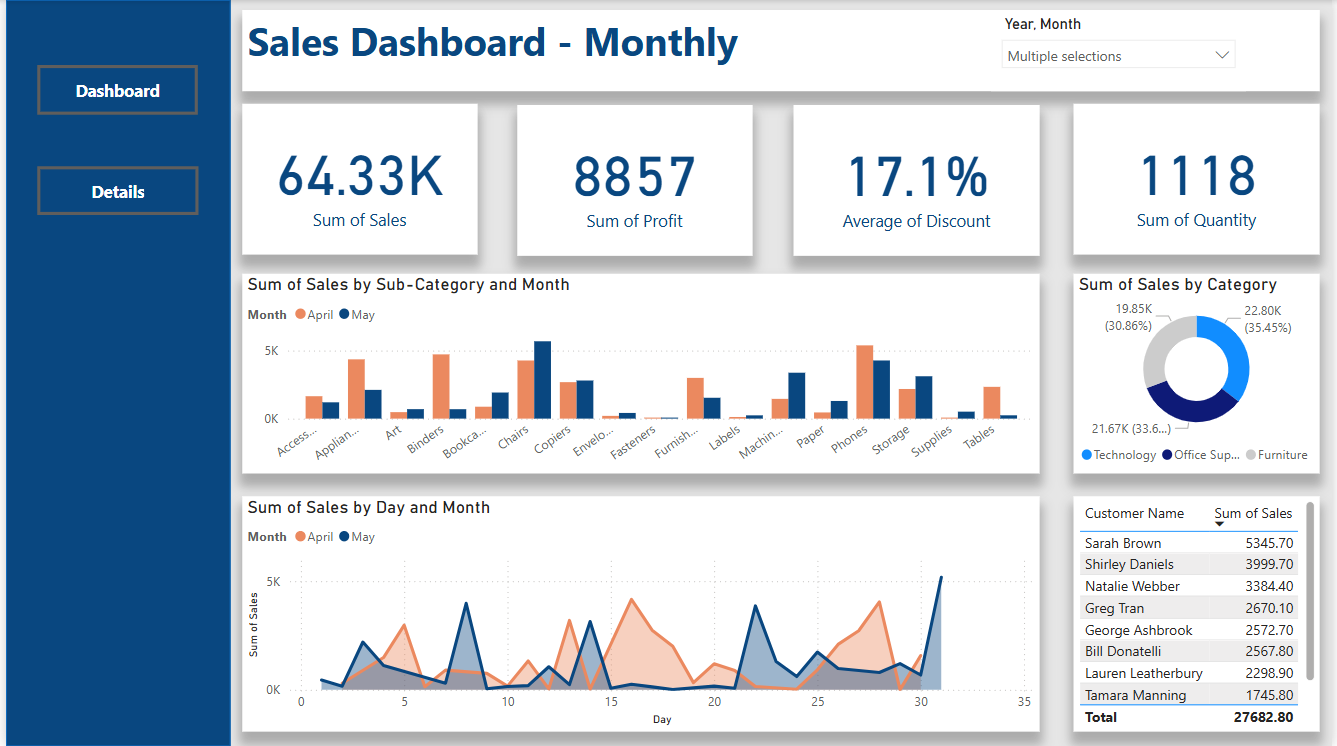

What the dashboard file says about the page in this screenshot:
{"tool":"powerbi","page":{"name":"Page 1","canvas":[1280,720],"ordinal":0},"visuals":[{"type":"shape","box":[0,0,216.8,720.4],"z":0},{"type":"card","fields":{"Values":["Sheet1.Sales"]},"box":[228,100.1,226.8,146],"z":0,"group":"g1"},{"type":"card","fields":{"Values":["Sheet1.Profit"]},"box":[493.4,101.3,226.8,146],"z":1000,"group":"g1"},{"type":"actionButton","box":[30.2,63.1,155.1,48],"z":1000},{"type":"card","fields":{"Values":["Sheet1.Discount"]},"box":[760,101.3,237.7,146],"z":2000,"group":"g1"},{"type":"textbox","box":[227.8,9.6,1040.1,78.2],"z":2000},{"type":"card","fields":{"Values":["Sheet1.Quantity"]},"box":[1030.3,100.1,237.7,146],"z":3000,"group":"g1"},{"type":"slicer","fields":{"Values":["Sheet1.Order Date.Variation.Date Hierarchy.Year","Sheet1.Order Date.Variation.Date Hierarchy.Month"]},"box":[950.9,9.6,245.6,78.2],"z":3000},{"type":"actionButton","box":[30.2,160.5,155.6,47.1],"z":4000},{"type":"clusteredColumnChart","fields":{"Category":["Sheet1.Sub-Category"],"Y":["Sheet1.Sales"],"Series":["Sheet1.Order Date.Variation.Date Hierarchy.Month"]},"box":[228,264.2,769.7,193],"z":4000,"group":"g1"},{"type":"group","id":"g1","title":"Group 1","box":[228,100.1,1040,605.6],"z":5000},{"type":"areaChart","fields":{"Category":["Sheet1.Order Date.Variation.Date Hierarchy.Day"],"Y":["Sheet1.Sales"],"Series":["Sheet1.Order Date.Variation.Date Hierarchy.Month"]},"box":[228,478.9,769.7,226.8],"z":5000,"group":"g1"},{"type":"donutChart","fields":{"Category":["Sheet1.Category"],"Y":["Sheet1.Sales"]},"box":[1030.3,264.2,237.7,193],"z":6000,"group":"g1"},{"type":"tableEx","fields":{"Values":["Sheet1.Customer Name","Sheet1.Sales"]},"box":[1030.3,478.9,237.7,226.8],"z":7000,"group":"g1"}]}

Visuals, with their boxes in screenshot pixels (x1, y1, x2, y2), scaled from the page's 1280x720 canvas onto the 1337x746 screenshot:
shape: {"left": 0, "top": 0, "right": 226, "bottom": 745}
card - Sheet1.Sales: {"left": 238, "top": 104, "right": 475, "bottom": 255}
card - Sheet1.Profit: {"left": 515, "top": 105, "right": 752, "bottom": 256}
actionButton: {"left": 32, "top": 65, "right": 194, "bottom": 115}
card - Sheet1.Discount: {"left": 794, "top": 105, "right": 1042, "bottom": 256}
textbox: {"left": 238, "top": 10, "right": 1324, "bottom": 91}
card - Sheet1.Quantity: {"left": 1076, "top": 104, "right": 1324, "bottom": 255}
slicer - Sheet1.Order Date.Variation.Date Hierarchy.Year x Sheet1.Order Date.Variation.Date Hierarchy.Month: {"left": 993, "top": 10, "right": 1250, "bottom": 91}
actionButton: {"left": 32, "top": 166, "right": 194, "bottom": 215}
clusteredColumnChart - Sheet1.Sub-Category x Sheet1.Sales: {"left": 238, "top": 274, "right": 1042, "bottom": 474}
"Group 1" group: {"left": 238, "top": 104, "right": 1324, "bottom": 731}
areaChart - Sheet1.Order Date.Variation.Date Hierarchy.Day x Sheet1.Sales: {"left": 238, "top": 496, "right": 1042, "bottom": 731}
donutChart - Sheet1.Category x Sheet1.Sales: {"left": 1076, "top": 274, "right": 1324, "bottom": 474}
tableEx - Sheet1.Customer Name x Sheet1.Sales: {"left": 1076, "top": 496, "right": 1324, "bottom": 731}
